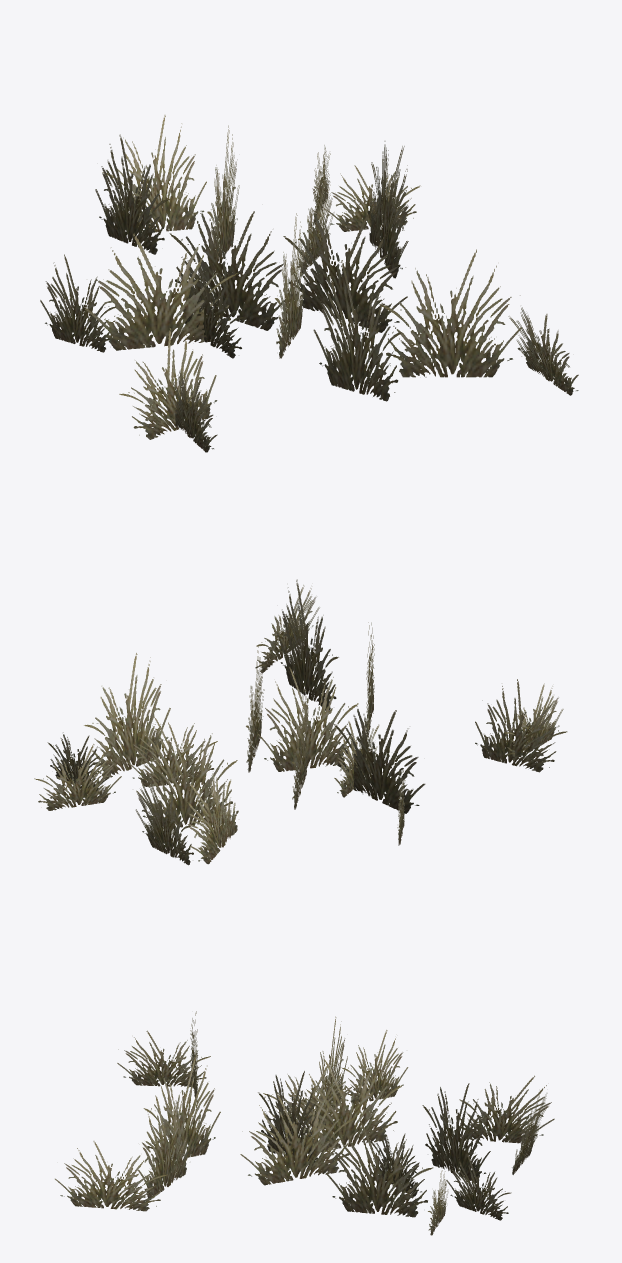
The model's file is DN_grass15c.FBX.
3 renders of one model, top to bottom at view 1: azimuth 30°, elevation 25°; view 2: azimuth 150°, elevation 25°; view 3: azimuth 270°, elevation 25°, orthographic. The views are drawn at different scales.
Visible parts, largest first — view 1: DN_grass15c; view 2: DN_grass15c; view 3: DN_grass15c.
Boxes of the visible parts, box(x1,y1,x2,y2) form: DN_grass15c: box(40, 115, 578, 452); DN_grass15c: box(34, 579, 567, 865); DN_grass15c: box(55, 1011, 554, 1235).
Size of the model in its own units: 140 by 53.18 by 176.
